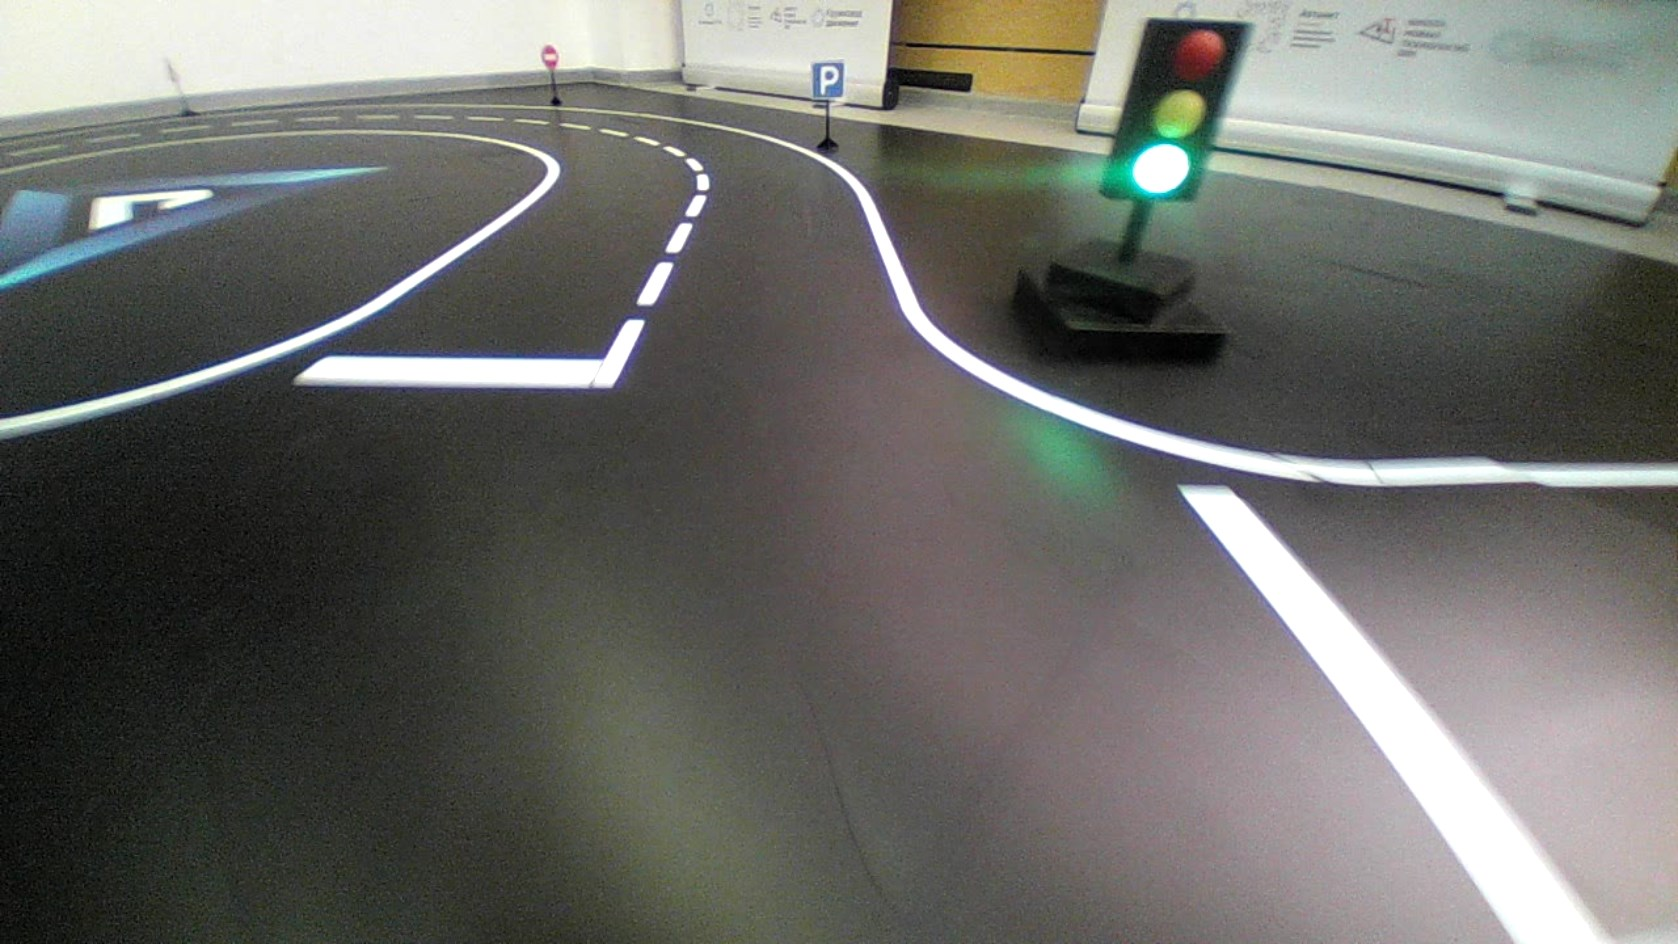trafficlight: (1096, 16, 1252, 203)
